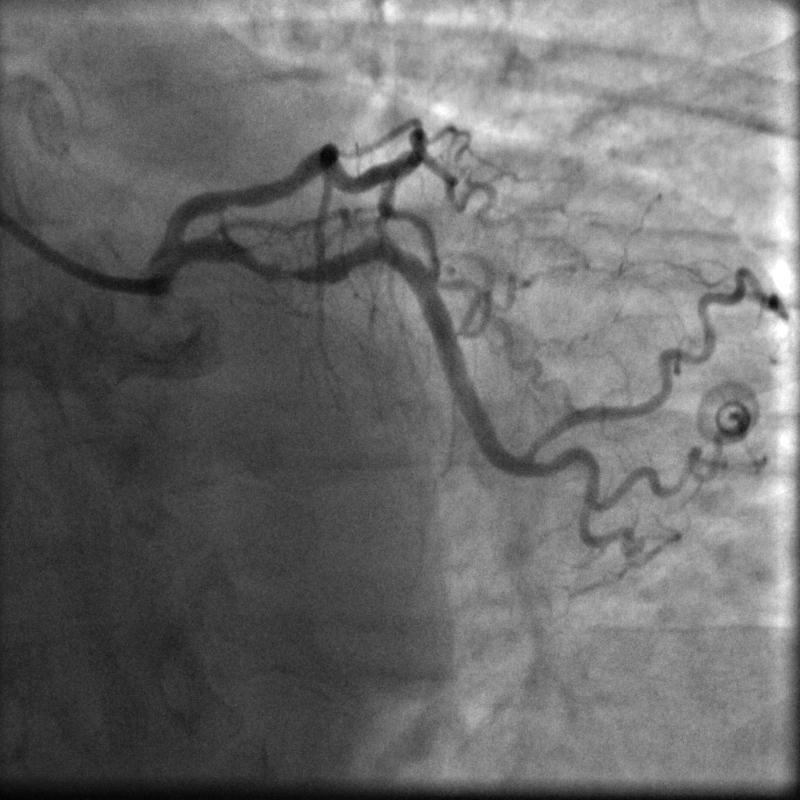Stenosis: (256, 255, 315, 289)
